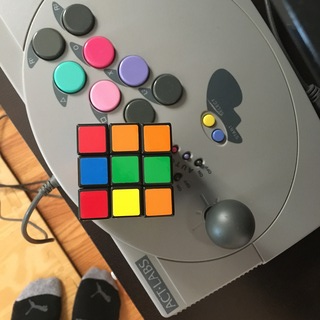face: (77, 122, 172, 218)
